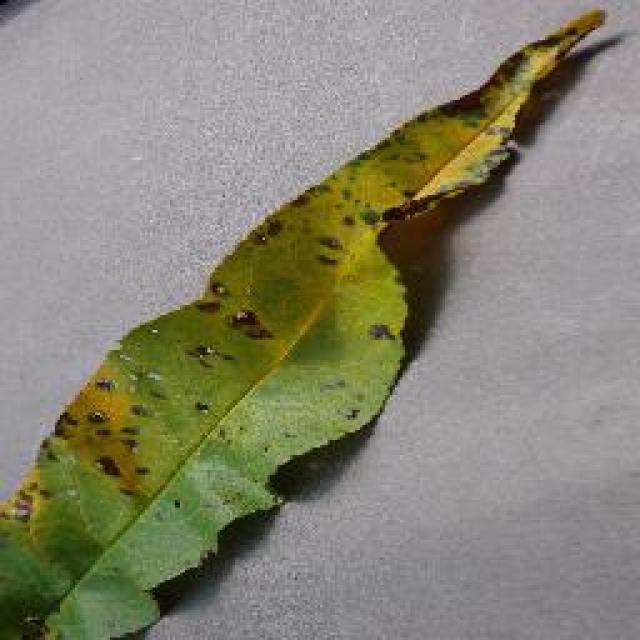Peach_Bacterial_Spot: (96, 168, 476, 468)
